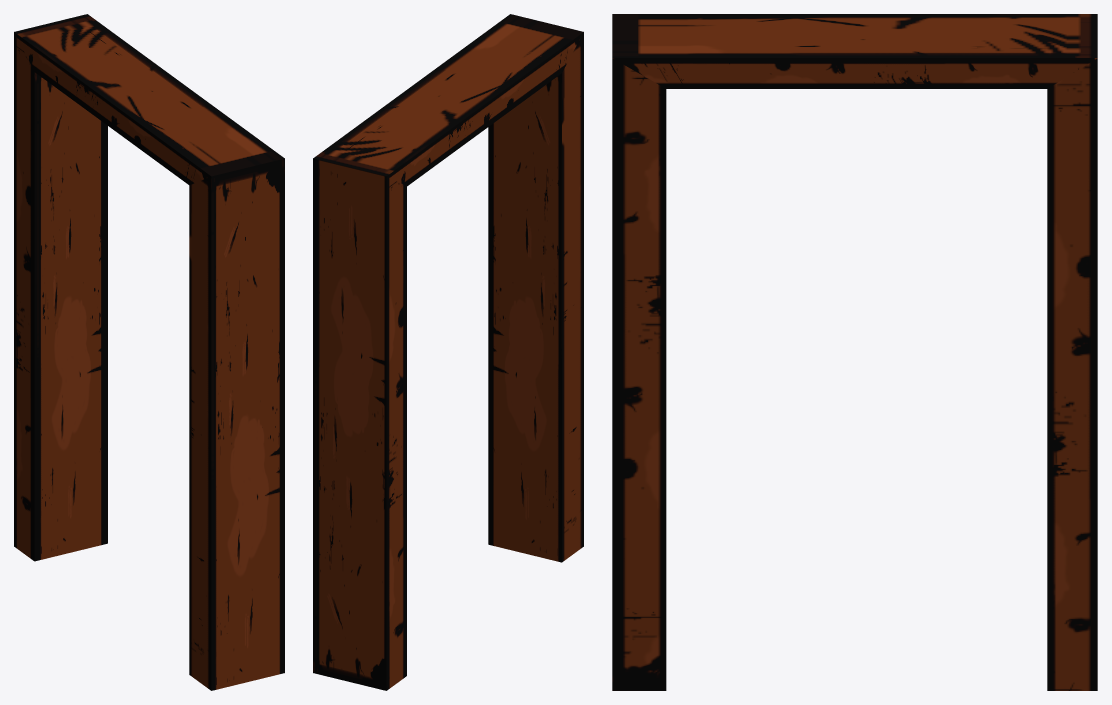
Rendered from kosak.fbx.
3 views of the same model, side by side, from view 1: azimuth 30°, elevation 25°; view 2: azimuth 150°, elevation 25°; view 3: azimuth 270°, elevation 25° (orthographic). The views are drawn at different scales.
Parts seen in each view (by area): view 1: Plane.012; view 2: Plane.012; view 3: Plane.012.
Boxes of the visible parts, x1,y1,x2,y2 form: Plane.012: [14, 14, 284, 690]; Plane.012: [313, 14, 583, 690]; Plane.012: [612, 14, 1097, 690].
Size of the model in its own units: 35.78 by 239 by 166.
